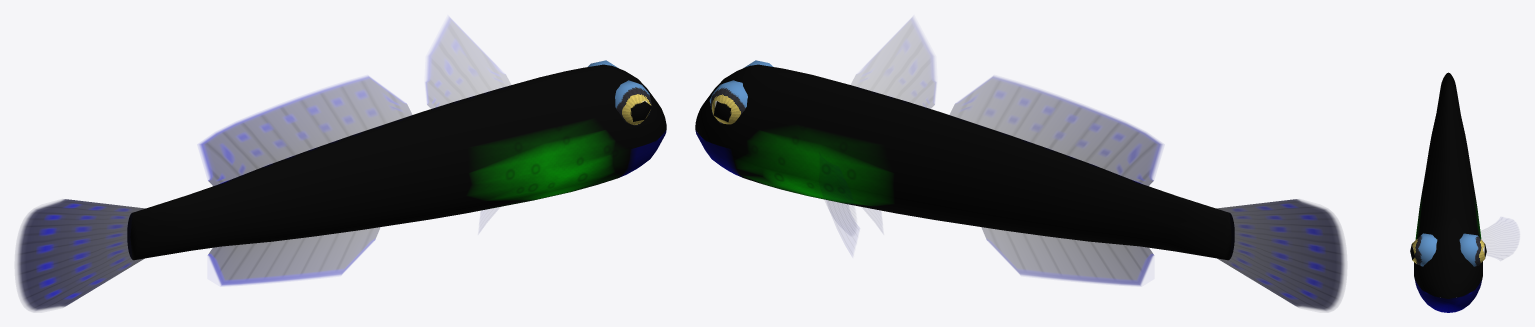
Rendered from watchman_goby_lod1.glb.
3 renders of one model, left to right at view 1: azimuth 30°, elevation 25°; view 2: azimuth 150°, elevation 25°; view 3: azimuth 270°, elevation 25°, orthographic. The views are drawn at different scales.
Parts seen in each view (by area): view 1: Body, FinDorsal2, FinCaudal, FinAnal, FinDorsal, EyeR; view 2: Body, FinDorsal2, FinCaudal, FinAnal, FinDorsal, EyeL; view 3: Body, EyeL, EyeR.
Part boxes in pixels (box(x1,y1,x2,y2)): Body: box(127, 64, 666, 260); FinDorsal2: box(199, 76, 412, 186); FinCaudal: box(16, 199, 145, 311); FinAnal: box(208, 227, 380, 285); FinDorsal: box(426, 18, 511, 109); EyeR: box(615, 80, 652, 125); Body: box(695, 64, 1234, 260); FinDorsal2: box(949, 76, 1162, 186); FinCaudal: box(1216, 199, 1345, 311); FinAnal: box(982, 227, 1153, 285); FinDorsal: box(850, 18, 935, 109); EyeL: box(709, 80, 747, 124); Body: box(1414, 72, 1482, 312); EyeL: box(1459, 233, 1486, 266); EyeR: box(1410, 233, 1437, 266).
Size of the model in its own units: 1 by 0.3614 by 0.2542.
4 materials, 3 textured.
